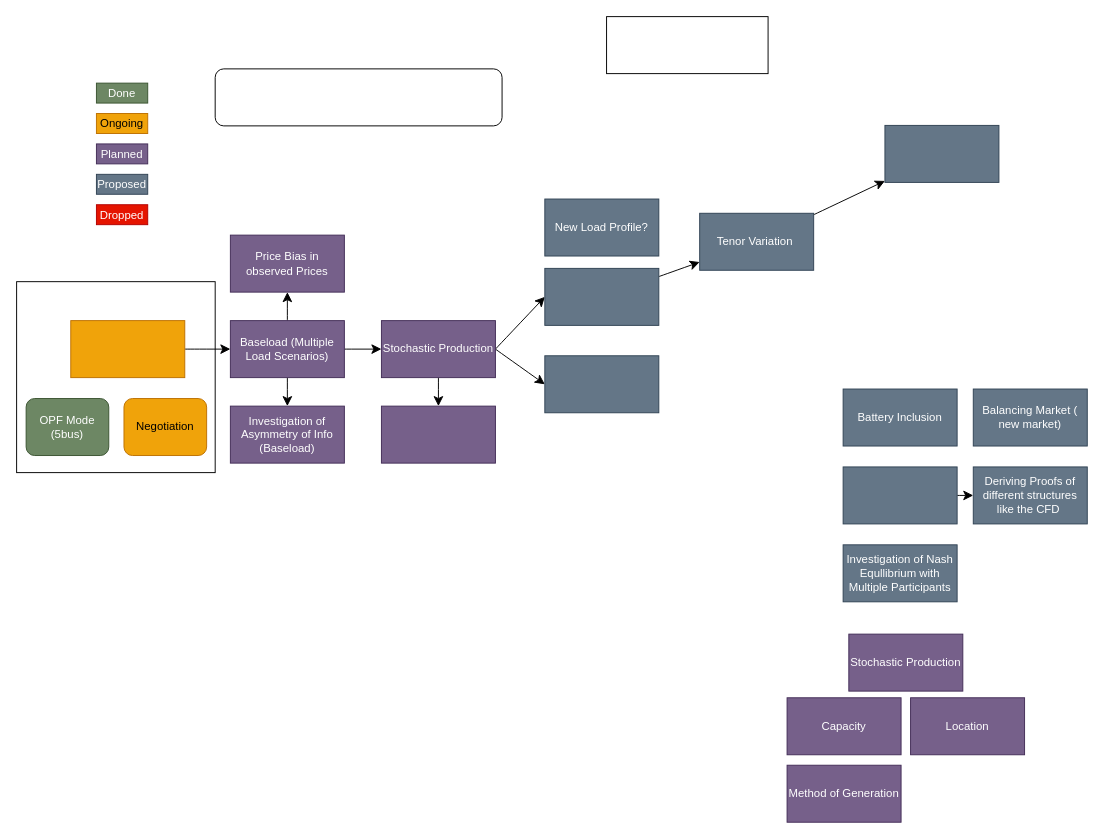
The diagram is 1104 pixels wide and 839 high, and some of its shapes have lost their labels. The box of each missing label's shape, as (x1, y1, x2, y2) in pixels:
Baseload (Single Scenario): (70, 320, 185, 378)
Dynamic Pricing: (884, 124, 999, 182)
Inclusion of Real Forward Prices: (544, 267, 659, 325)
Investigation of Asymmetry of Info (Stochastic): (380, 405, 495, 463)
Last Updated : 27/02: (606, 16, 768, 74)
Other Bus System: (544, 355, 659, 413)
Other PPA structures?: (842, 466, 957, 524)
Thesis Directions: (214, 68, 502, 126)
